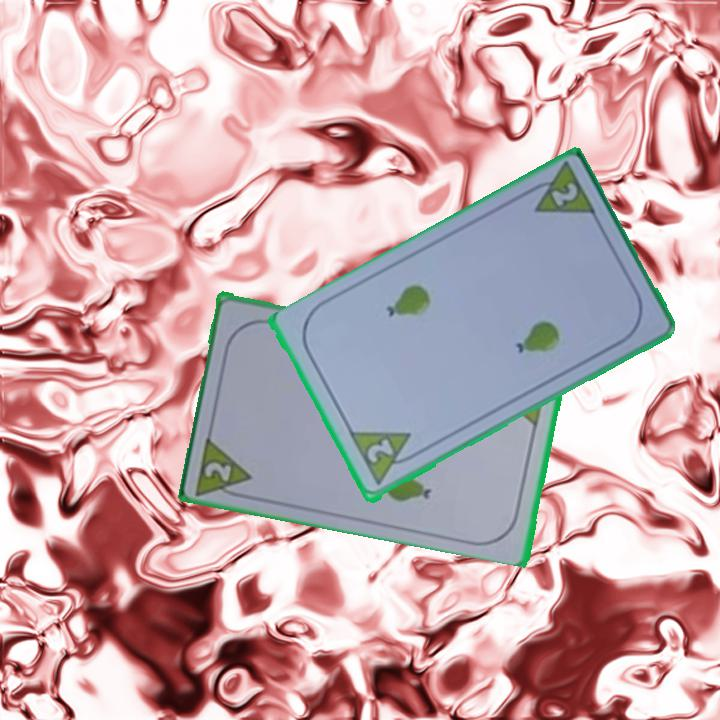2p: (519, 160, 600, 221), (192, 431, 257, 502), (362, 436, 397, 467)
